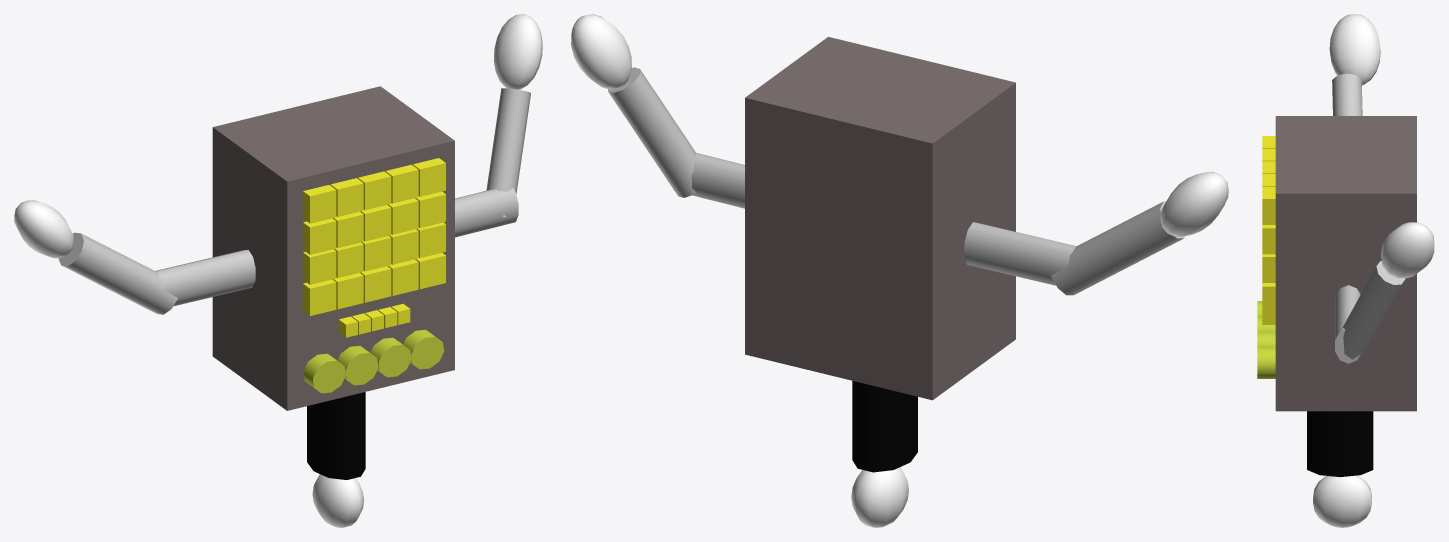
The model's file is meta2.obj.
3 renders of one model, left to right at view 1: azimuth 30°, elevation 25°; view 2: azimuth 150°, elevation 25°; view 3: azimuth 270°, elevation 25°, orthographic. The views are drawn at different scales.
Visible parts, largest first — view 1: 037_Box, 007_Cylinder_4_-_baked, 002_Cylinder_8, 001_Cylinder_7, 000_Cylinder_6, 005_Sphere_1, 003_Sphere_2, 004_Cylinder_5, 006_Sphere, 010_Cylinder_1, 008_Cylinder_2, 009_Cylinder_3 (+21 smaller); view 2: 037_Box, 007_Cylinder_4_-_baked, 002_Cylinder_8, 000_Cylinder_6, 001_Cylinder_7, 005_Sphere_1, 003_Sphere_2, 006_Sphere, 004_Cylinder_5; view 3: 037_Box, 007_Cylinder_4_-_baked, 000_Cylinder_6, 003_Sphere_2, 006_Sphere, 005_Sphere_1, 002_Cylinder_8, 004_Cylinder_5, 009_Cylinder_3, 012_Box_26, 024_Box_11_-_baked, 027_Box_25 (+2 smaller).
Part boxes in pixels (x1,y1,x2,y2): 037_Box: (212, 86, 454, 410); 007_Cylinder_4_-_baked: (307, 392, 365, 479); 002_Cylinder_8: (58, 232, 177, 314); 001_Cylinder_7: (155, 250, 255, 306); 000_Cylinder_6: (486, 88, 530, 218); 005_Sphere_1: (494, 14, 542, 89); 003_Sphere_2: (14, 200, 73, 258); 004_Cylinder_5: (455, 188, 518, 237); 006_Sphere: (312, 474, 363, 527); 010_Cylinder_1: (303, 353, 345, 393); 008_Cylinder_2: (370, 337, 411, 377); 009_Cylinder_3: (403, 329, 444, 369); 037_Box: (745, 37, 1015, 400); 007_Cylinder_4_-_baked: (852, 381, 917, 472); 002_Cylinder_8: (1051, 201, 1185, 295); 000_Cylinder_6: (608, 67, 696, 197); 001_Cylinder_7: (964, 222, 1076, 285); 005_Sphere_1: (571, 14, 631, 89); 003_Sphere_2: (1160, 171, 1228, 236); 006_Sphere: (851, 467, 908, 527); 004_Cylinder_5: (674, 153, 744, 208); 037_Box: (1275, 116, 1416, 411); 007_Cylinder_4_-_baked: (1307, 411, 1373, 477); 000_Cylinder_6: (1334, 261, 1405, 361); 003_Sphere_2: (1329, 14, 1380, 85); 006_Sphere: (1313, 475, 1371, 527); 005_Sphere_1: (1381, 222, 1434, 278); 002_Cylinder_8: (1332, 73, 1362, 115); 004_Cylinder_5: (1335, 285, 1360, 363); 009_Cylinder_3: (1257, 346, 1275, 378); 012_Box_26: (1262, 186, 1275, 224); 024_Box_11_-_baked: (1262, 225, 1275, 254); 027_Box_25: (1262, 283, 1275, 312).
Size of the model in its own units: 69.17 by 51.36 by 20.3.
